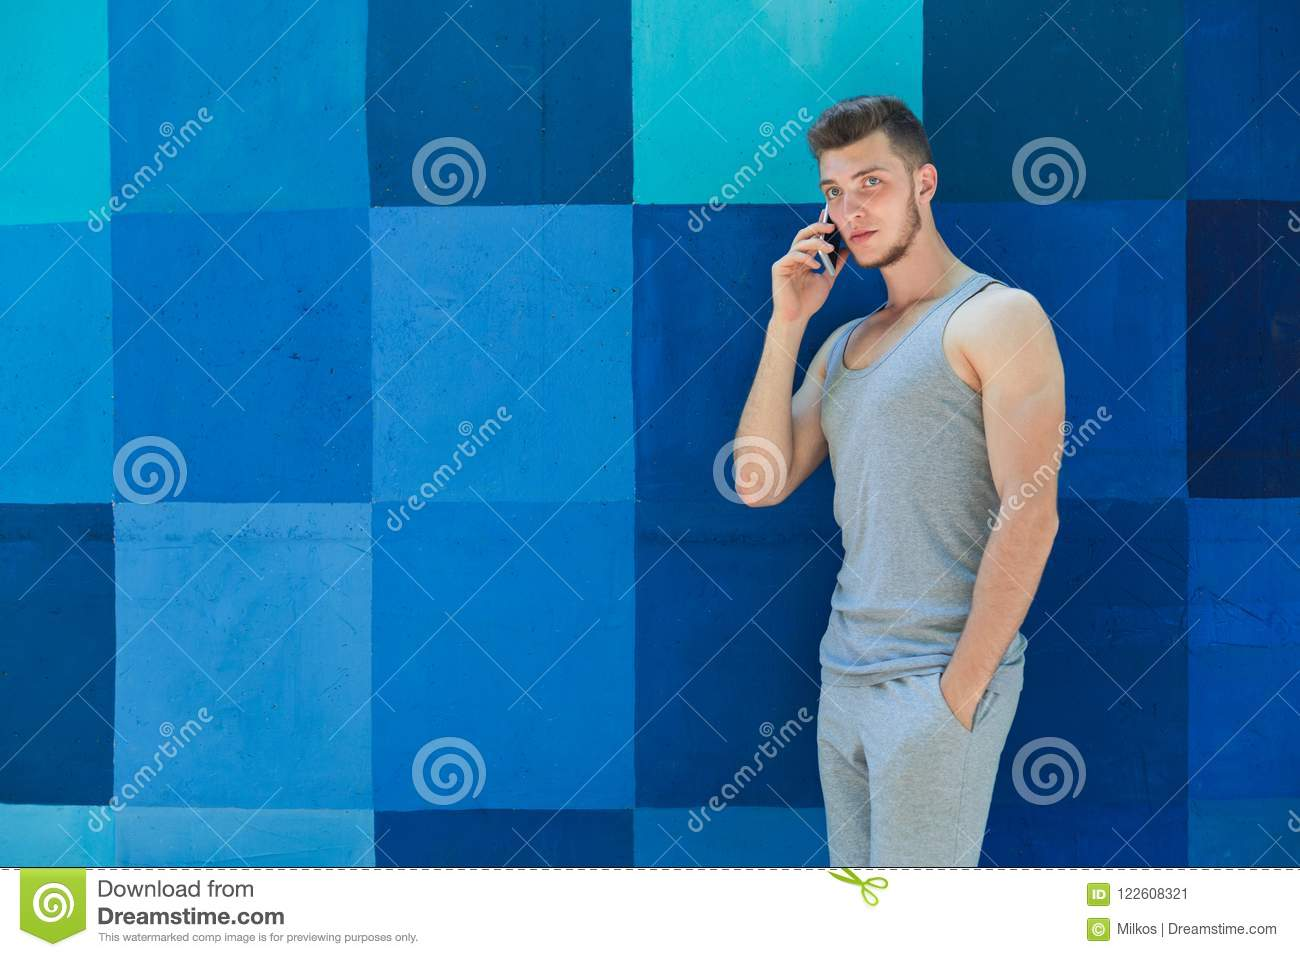phone: (814, 203, 842, 275)
talk: (772, 162, 899, 325)
